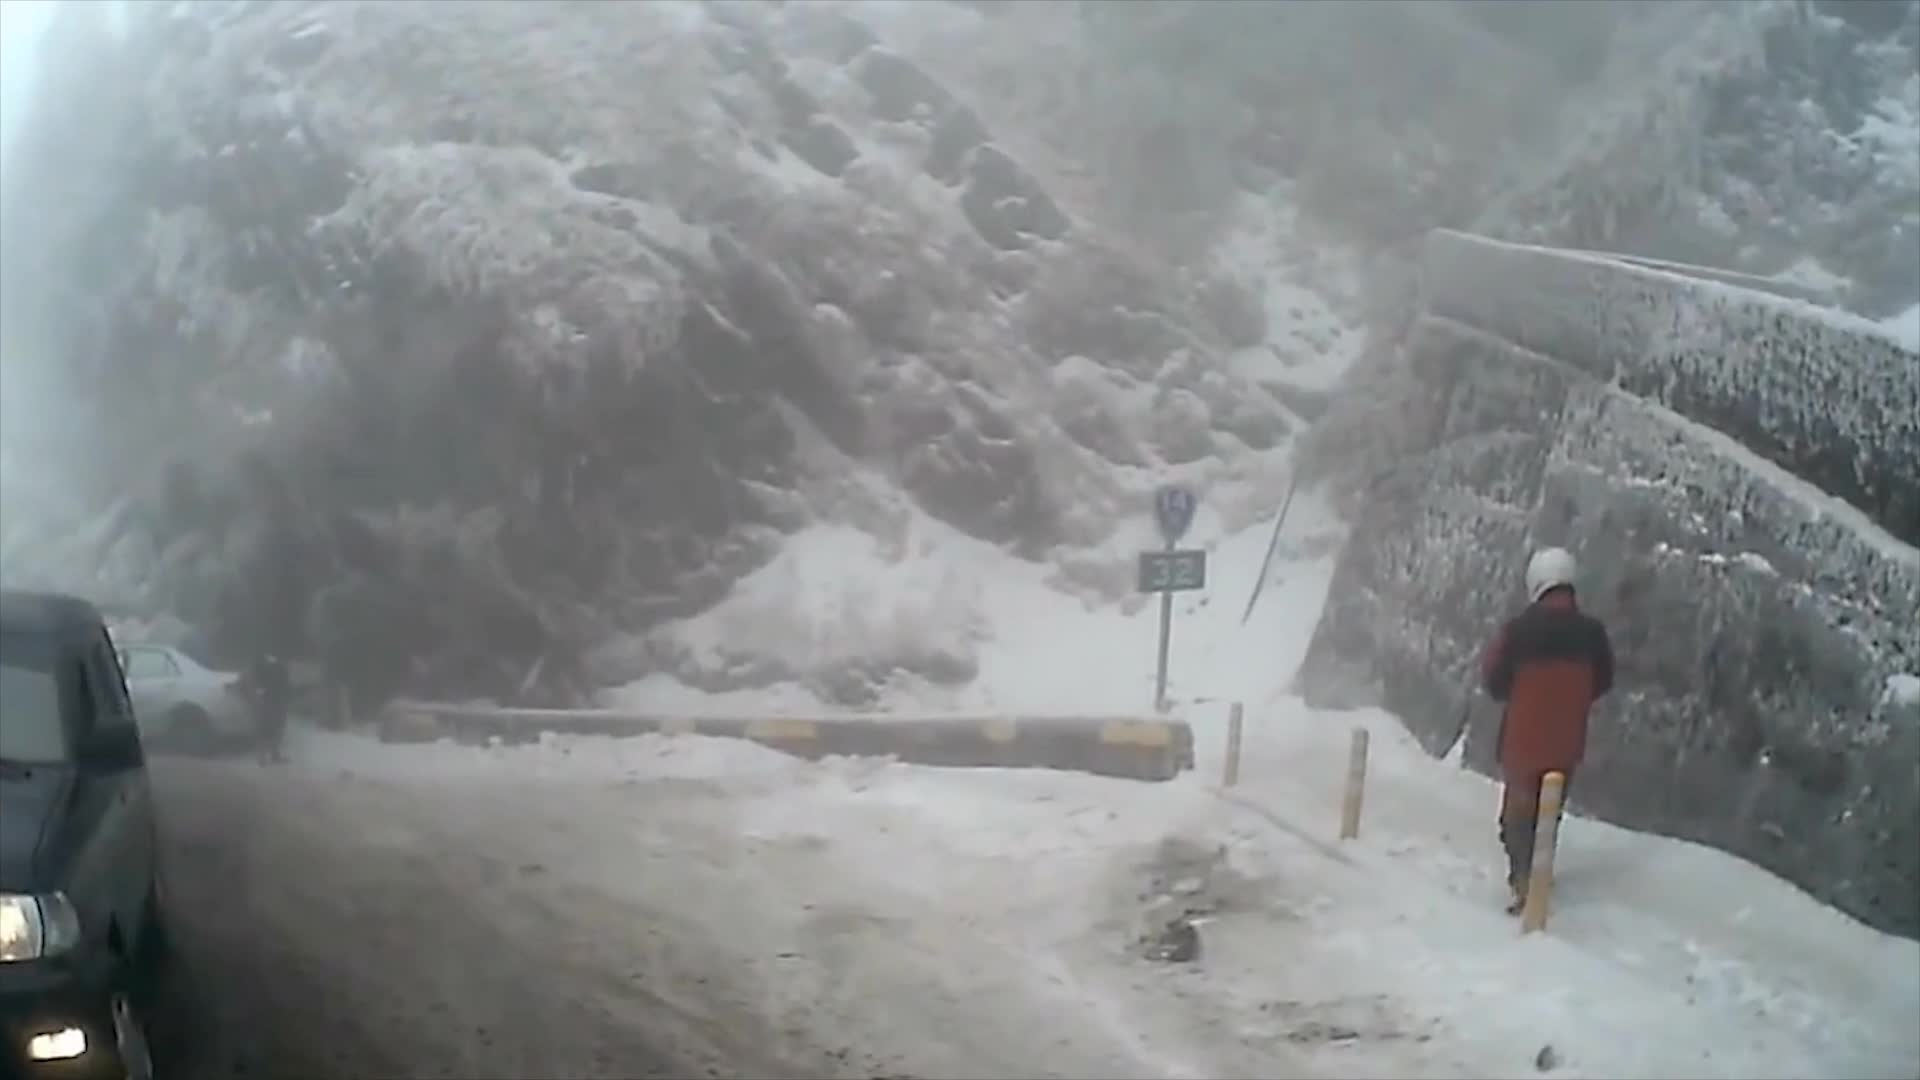pedestrian: (1477, 543, 1610, 915), (248, 648, 295, 769)
vehicle: (0, 596, 186, 1080), (0, 643, 253, 760)
